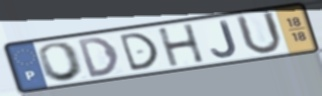D: (75, 35, 121, 80), (117, 31, 161, 73)
H: (155, 22, 208, 69)
J: (209, 19, 239, 59)
O: (36, 41, 87, 84)
U: (233, 10, 285, 57)
